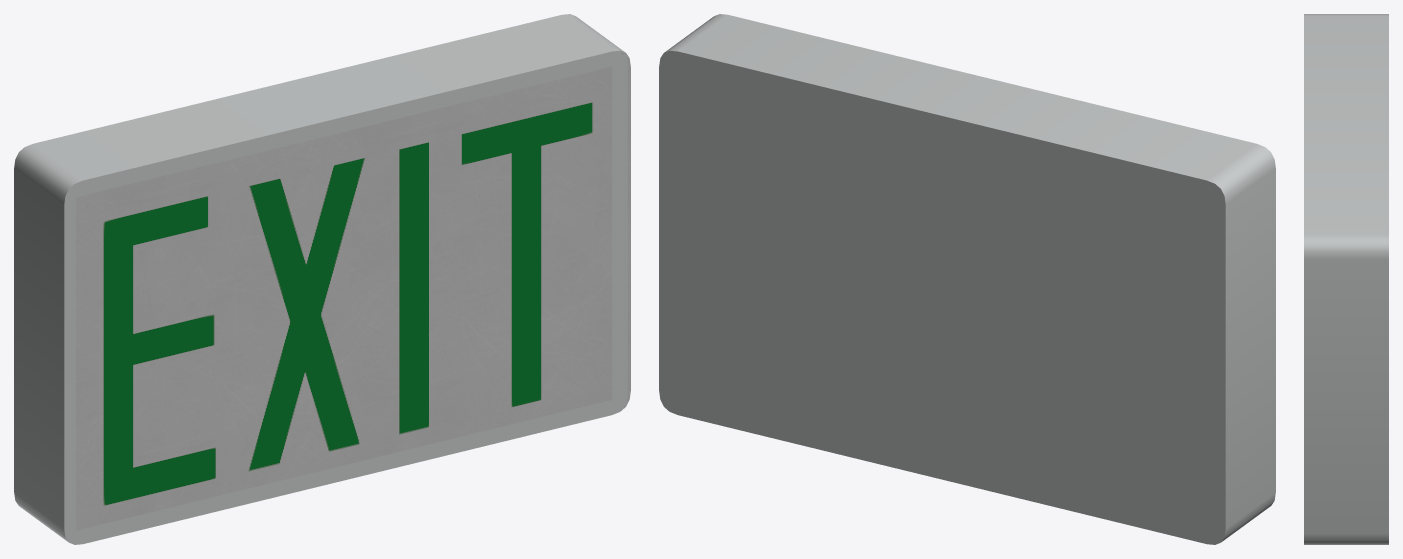
The model's file is SignExitGreen.fbx.
The picture shows the model from 3 angles, left to right: view 1: azimuth 30°, elevation 25°; view 2: azimuth 150°, elevation 25°; view 3: azimuth 270°, elevation 25°; orthographic projection. The views are drawn at different scales.
Parts seen in each view (by area): view 1: SignExitGreen; view 2: SignExitGreen; view 3: SignExitGreen.
Part boxes in pixels (x1,y1,x2,y2): SignExitGreen: [14, 14, 630, 544]; SignExitGreen: [659, 14, 1275, 544]; SignExitGreen: [1304, 14, 1388, 544].
Bounding box in the file's own units: 30 × 18.4 × 4.6.
